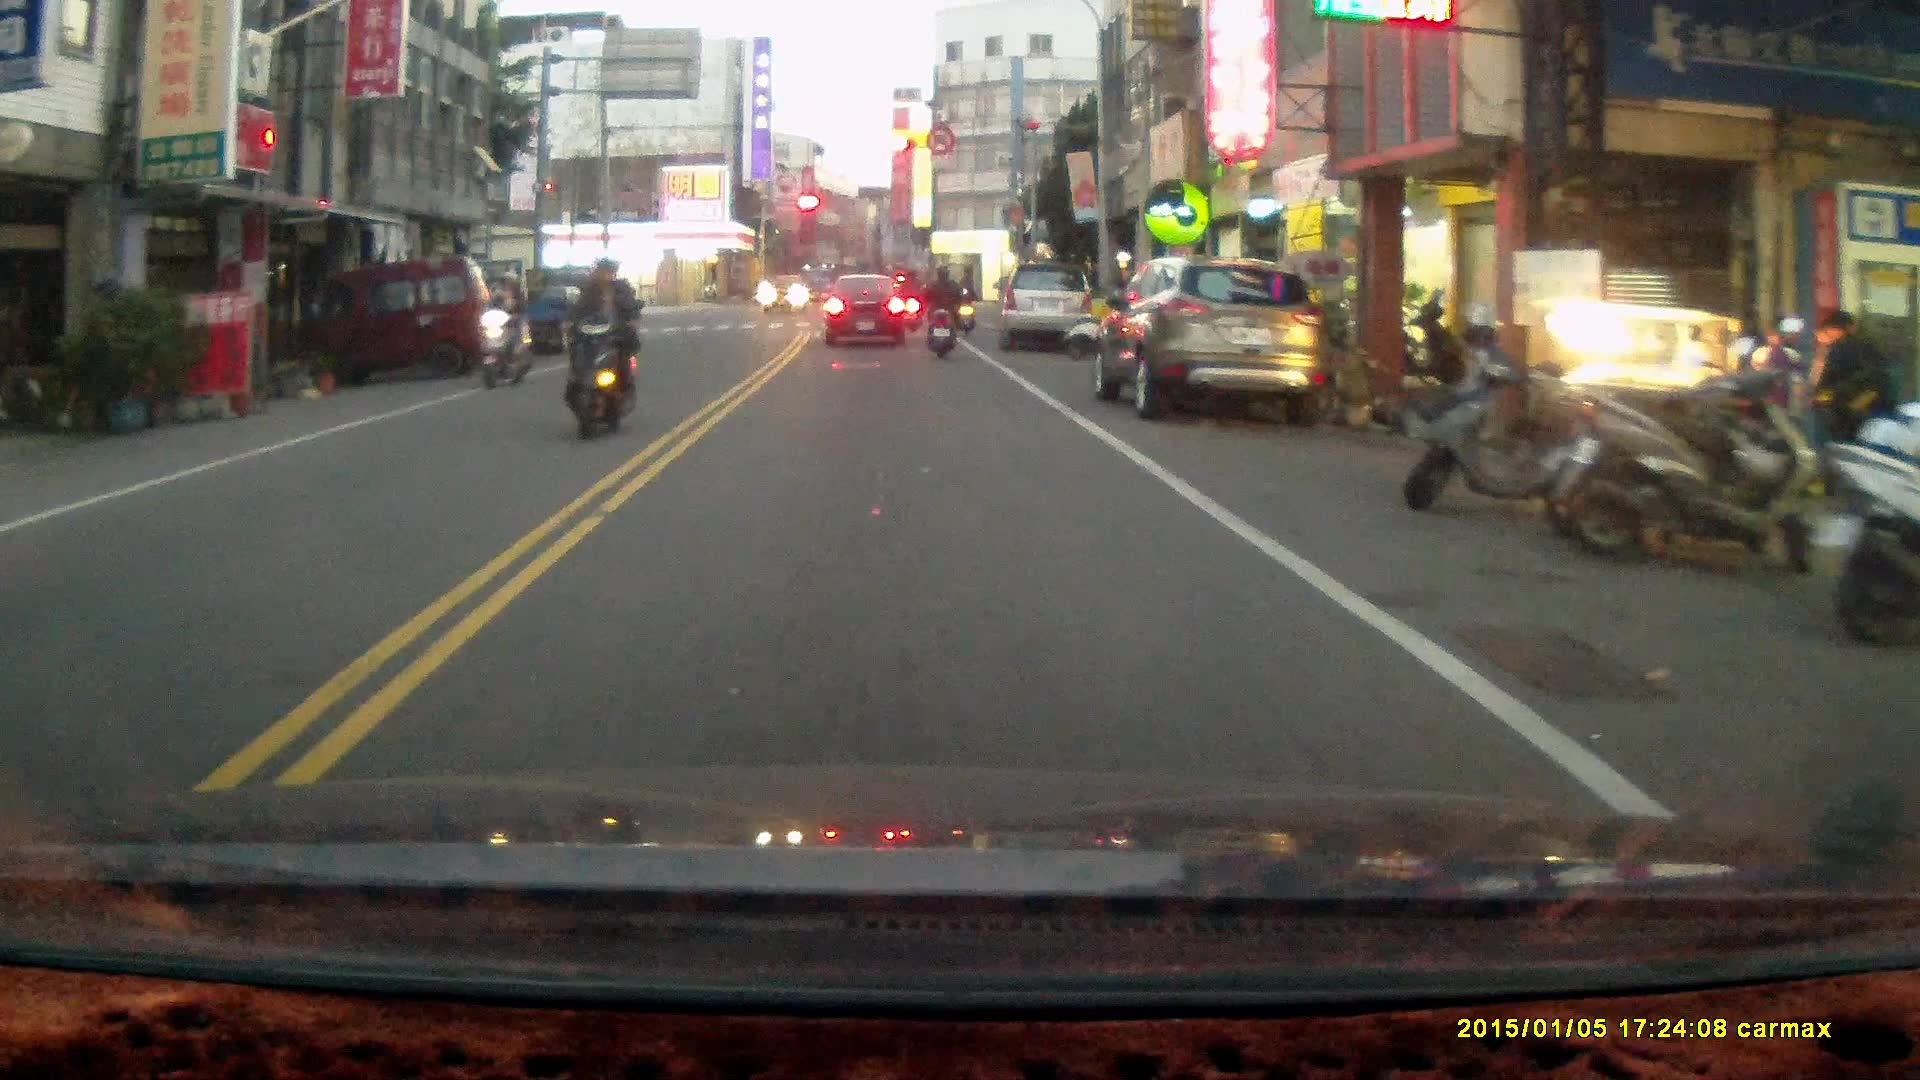pedestrian: (1810, 309, 1889, 499), (1751, 313, 1807, 475)
rider: (555, 254, 639, 442), (475, 268, 535, 390), (916, 263, 961, 361), (897, 267, 924, 329), (953, 271, 978, 337)
vehicle: (1095, 256, 1329, 428), (294, 253, 502, 392), (1002, 262, 1095, 353), (824, 276, 913, 347)
